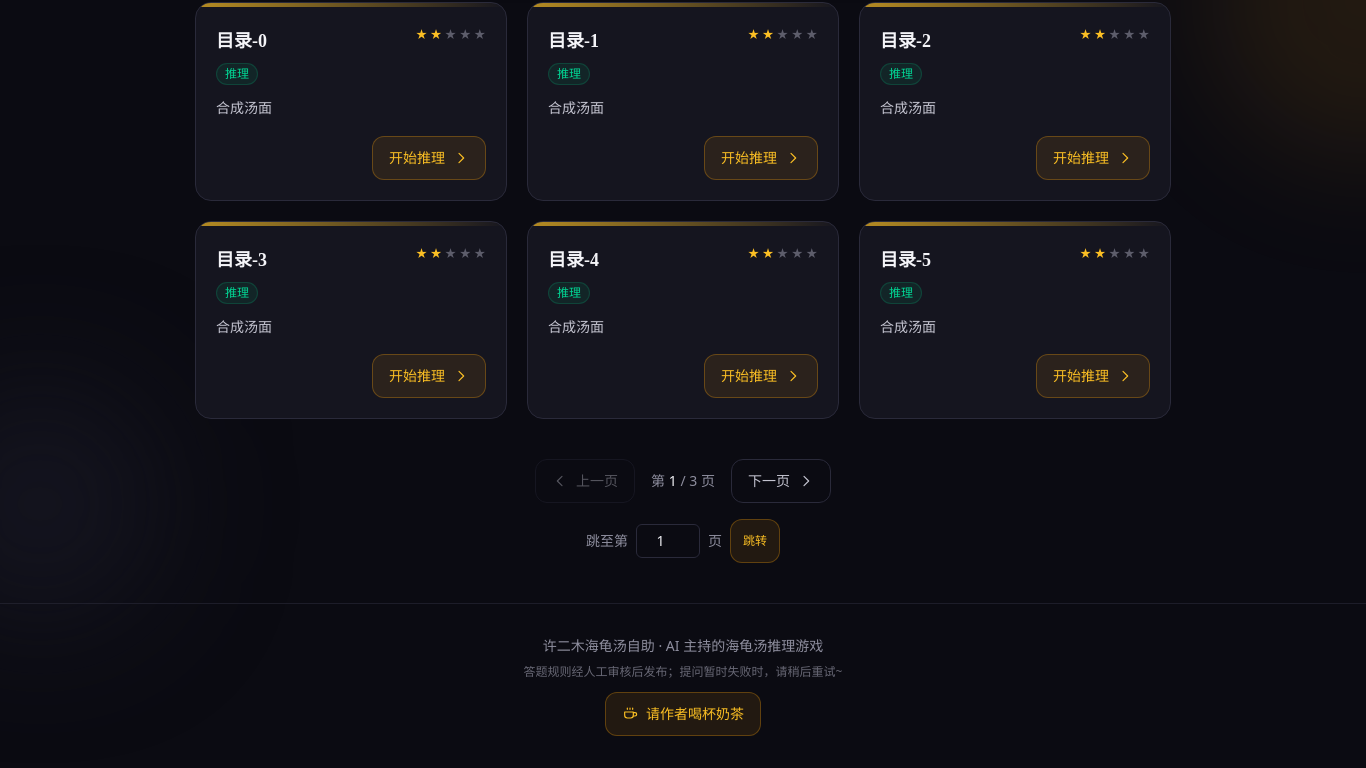
Test: pagination clamps an explicit jump 99 to a valid page
(page scrolled)
Expected: the heading "目录-0" is shown, [216,27,267,55]
Replace the text in the number field named "输入页码" with "99" at (668, 541), box [636,524,700,558]
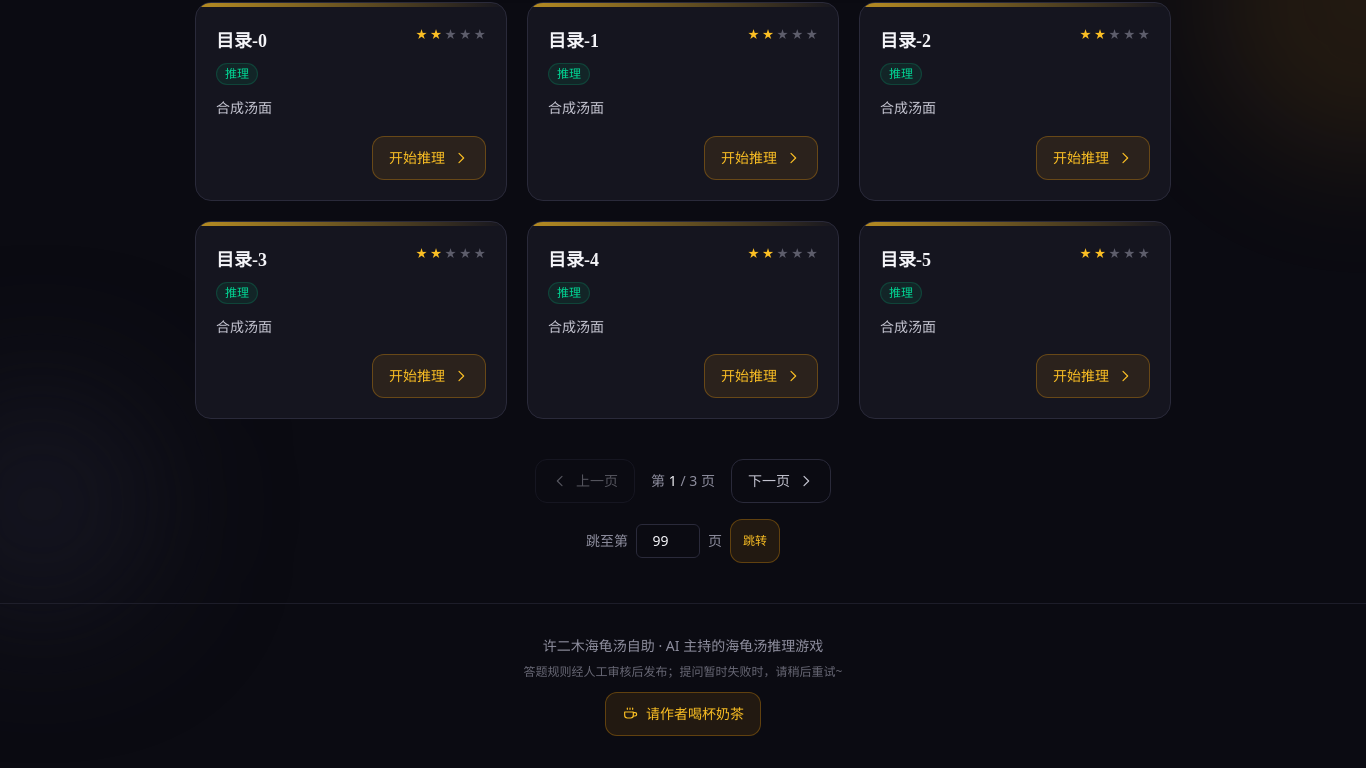
Press Enter in the number field named "输入页码", box [636,524,700,558]
(page scrolled)
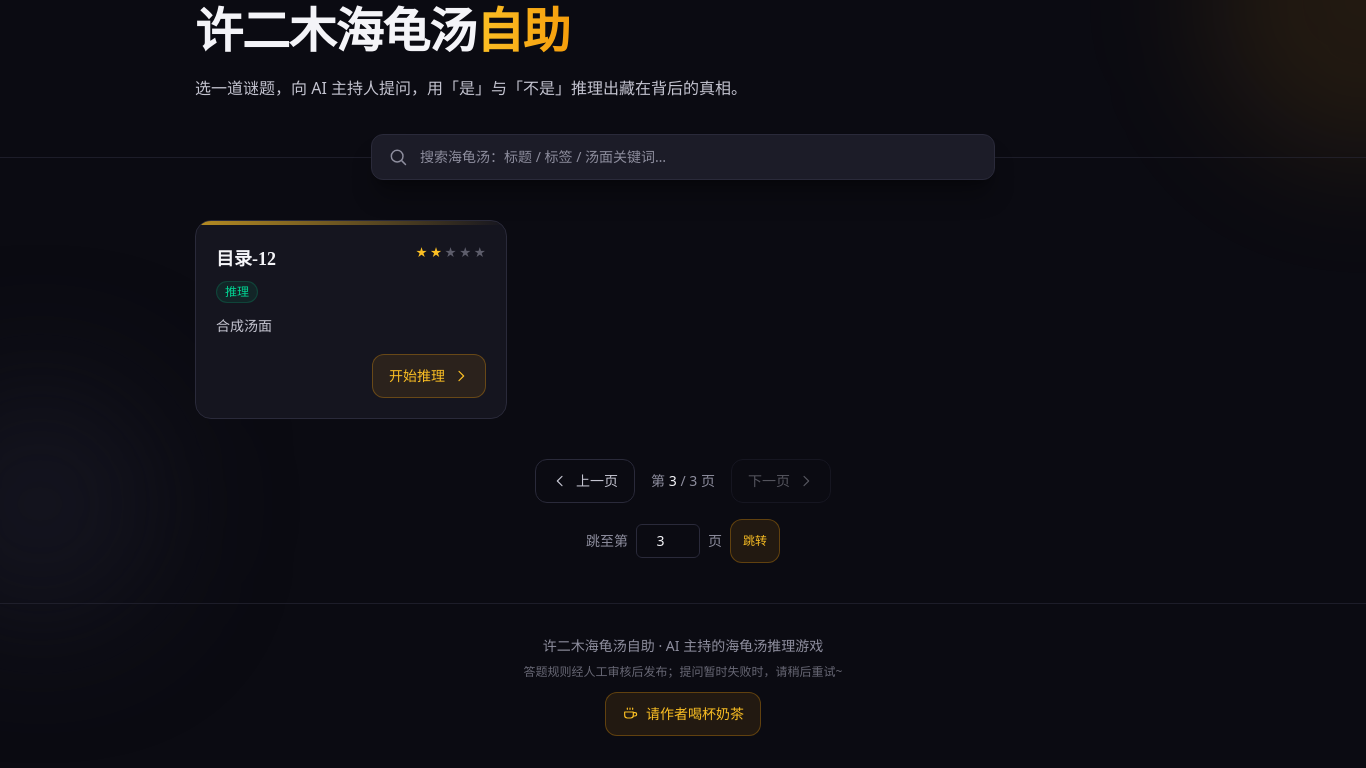
Expected: the heading "目录-12" is shown, [216,245,276,273]
